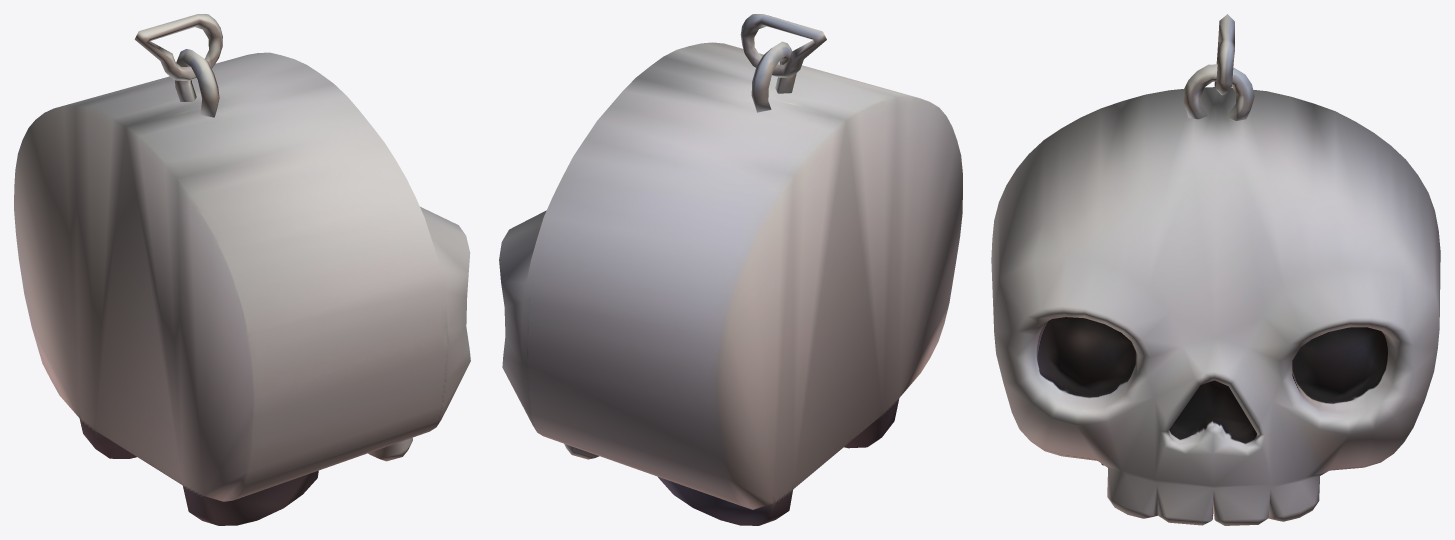
File: charm_caveira.glb
3 views of the same model, side by side, from view 1: azimuth 30°, elevation 25°; view 2: azimuth 150°, elevation 25°; view 3: azimuth 270°, elevation 25° (orthographic). The views are drawn at different scales.
Visible parts, largest first — view 1: tripo_node_b1eea14c-8b2d-4851-ba57-7b0da31c08ac; view 2: tripo_node_b1eea14c-8b2d-4851-ba57-7b0da31c08ac; view 3: tripo_node_b1eea14c-8b2d-4851-ba57-7b0da31c08ac.
Boxes of the visible parts, bbox=[...] form: tripo_node_b1eea14c-8b2d-4851-ba57-7b0da31c08ac: bbox=[14, 14, 470, 525]; tripo_node_b1eea14c-8b2d-4851-ba57-7b0da31c08ac: bbox=[499, 14, 962, 525]; tripo_node_b1eea14c-8b2d-4851-ba57-7b0da31c08ac: bbox=[991, 14, 1440, 525].
Bounding box in the file's own units: 0.6074 × 0.998 × 0.9395.
1 material, 1 textured.
